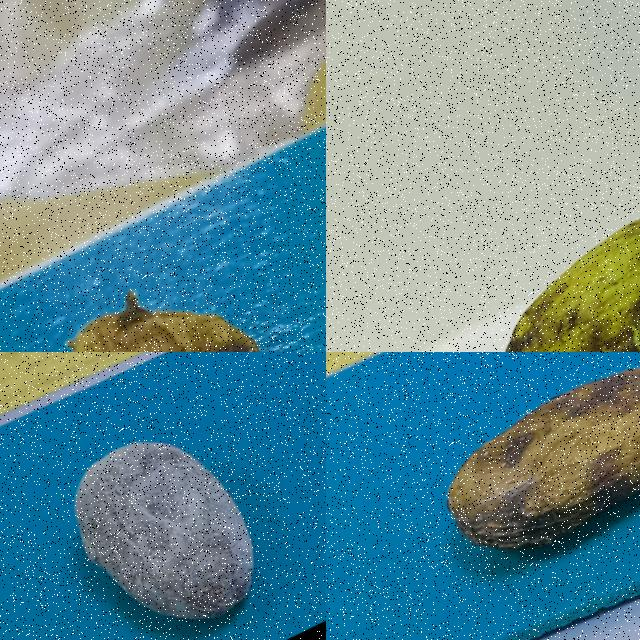Fine_cocoabeans: (0, 352, 325, 639), (327, 352, 639, 639), (416, 87, 639, 351)
Flat_cocoabeans: (0, 165, 325, 351)
